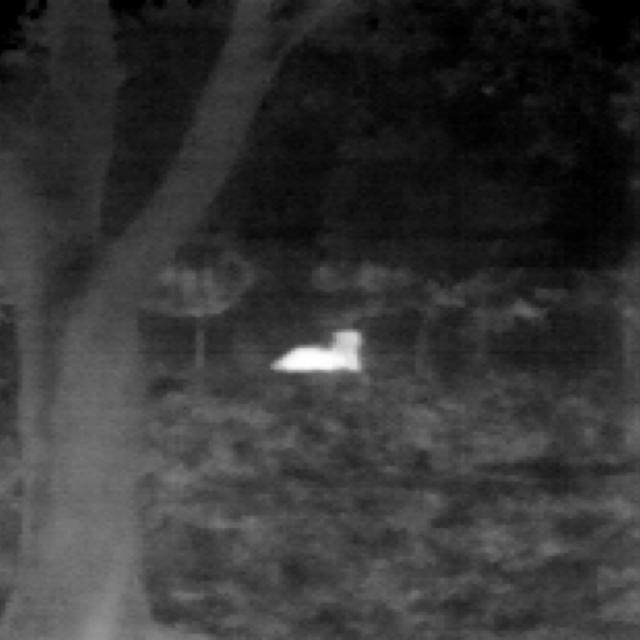cheetah: (273, 331, 361, 373)
